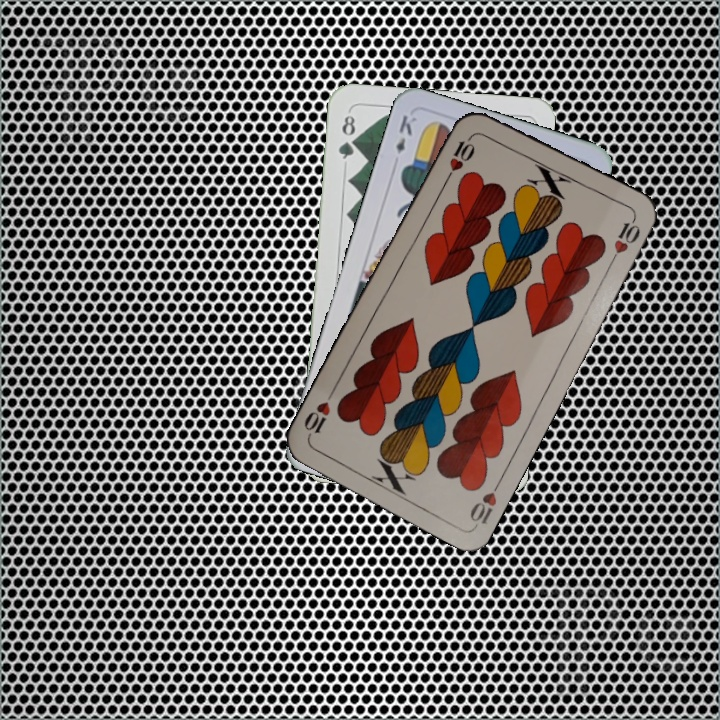EK: (392, 111, 419, 156)
G8: (334, 111, 359, 162)
H10: (465, 474, 505, 529), (441, 131, 477, 185)
